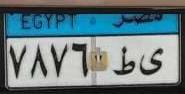6: (71, 41, 90, 78)
7: (49, 41, 69, 77), (10, 44, 28, 78)
8: (31, 42, 46, 78)
Taa: (112, 46, 137, 77)
yaa: (139, 47, 164, 76)
